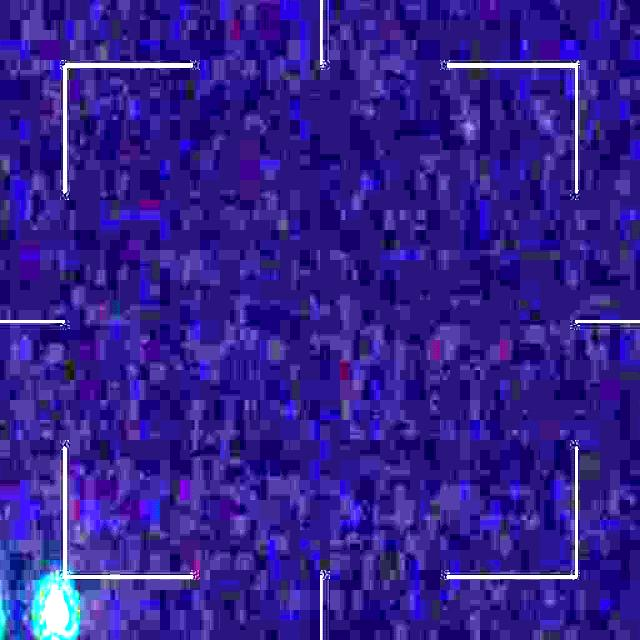bird: (0, 584, 72, 638)
